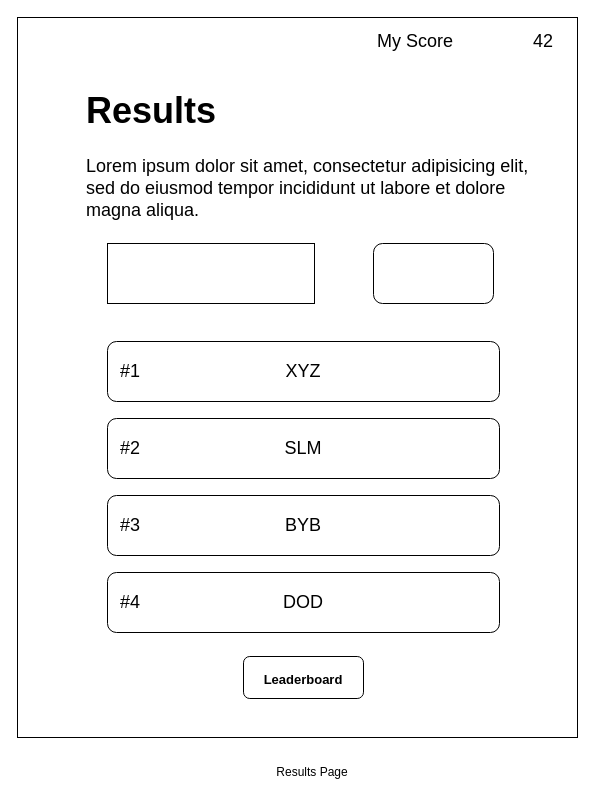
Some shapes in this 595 by 805 pixel diagram are drawn without their labels. The centre of each missing label's shape, as x and y in pixels:
"Initials" goes at [210,273].
"Submit" goes at [433,273].
